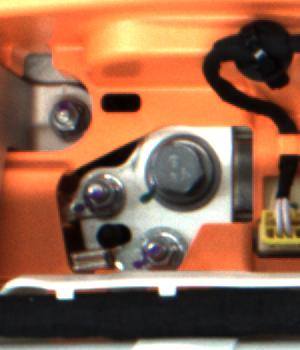nut_b: (136, 133, 225, 209)
screw_s: (39, 99, 87, 133), (80, 175, 121, 211), (137, 236, 178, 272)
